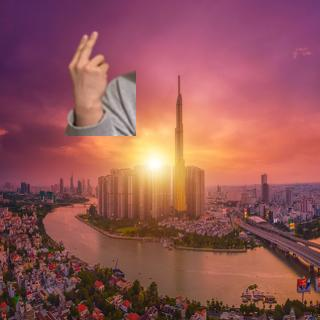DHAVE: (65, 27, 112, 115)
